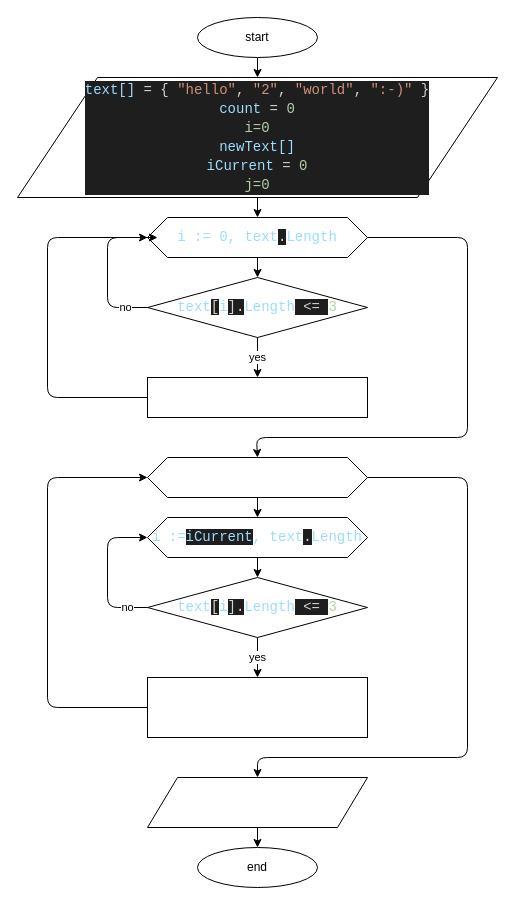
This 515x905 diagram has some shape labels left out. The shapes that lost their labels are listed below. From the top down, each one's centre as x and y in pixels, then its label:
At pixel 257 397: "count = count + 1".
At pixel 257 477: "j := 0, count".
At pixel 257 707: "newText [ j ] = text [ i ] iCurrent = i + 1 break".
At pixel 257 802: "Print text[] Print newText[]".
